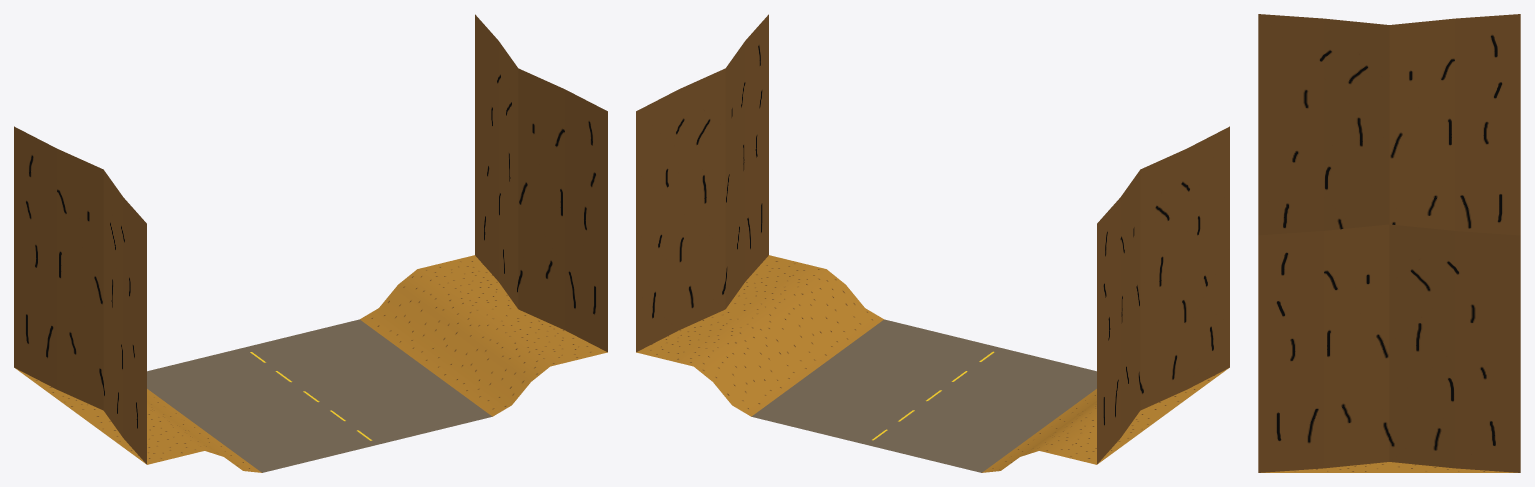
Rendered from Endless Canyon.glb.
3 renders of one model, left to right at view 1: azimuth 30°, elevation 25°; view 2: azimuth 150°, elevation 25°; view 3: azimuth 270°, elevation 25°, orthographic.
Parts seen in each view (by area): view 1: Cliff, Cliff.002, Road, Sand, Sand.001, Sand.002, Sand.003; view 2: Cliff, Cliff.002, Road, Sand.001, Sand, Sand.003, Sand.002; view 3: Cliff.002, Cliff, Sand, Sand.001.
Boxes of the visible parts, <box> form: Cliff: <box>14,126,146,464</box>; Cliff.002: <box>475,14,607,352</box>; Road: <box>147,319,492,472</box>; Sand: <box>426,309,607,416</box>; Sand.001: <box>360,255,517,367</box>; Sand.002: <box>81,405,261,472</box>; Sand.003: <box>15,368,195,424</box>; Cliff: <box>1097,126,1229,464</box>; Cliff.002: <box>636,14,768,352</box>; Road: <box>751,319,1096,472</box>; Sand.001: <box>636,309,817,416</box>; Sand: <box>726,255,883,367</box>; Sand.003: <box>982,405,1162,472</box>; Sand.002: <box>1048,368,1228,424</box>; Cliff.002: <box>1258,224,1520,472</box>; Cliff: <box>1258,14,1520,235</box>; Sand: <box>1261,462,1389,472</box>; Sand.001: <box>1389,462,1517,472</box>.
Size of the model in its own units: 40 by 23 by 20.
Materials: 3 (3 with a texture image).
